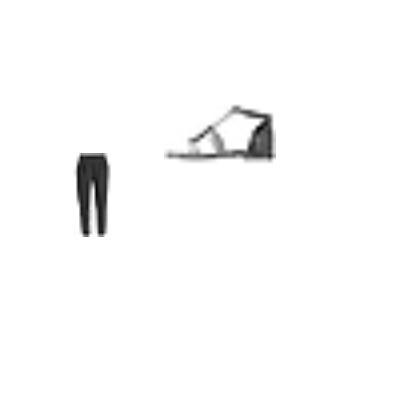Sandal: (164, 78, 276, 190)
Trouser: (50, 153, 134, 237)
